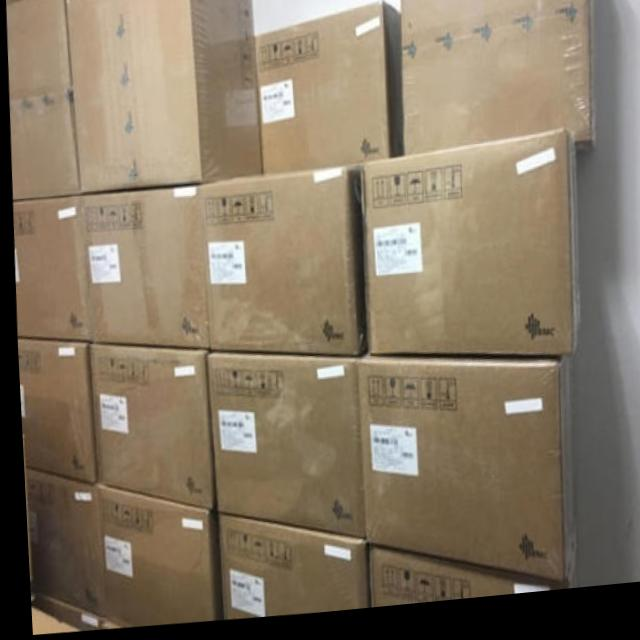box: (352, 361, 568, 592), (359, 141, 578, 365), (65, 0, 260, 195), (195, 170, 362, 363), (399, 0, 593, 163), (202, 355, 358, 546), (254, 8, 401, 180), (85, 343, 209, 512), (77, 189, 205, 352), (90, 484, 206, 627), (213, 515, 362, 622), (363, 545, 571, 613), (6, 0, 77, 198), (21, 468, 98, 619), (10, 197, 89, 343), (14, 337, 92, 484)
